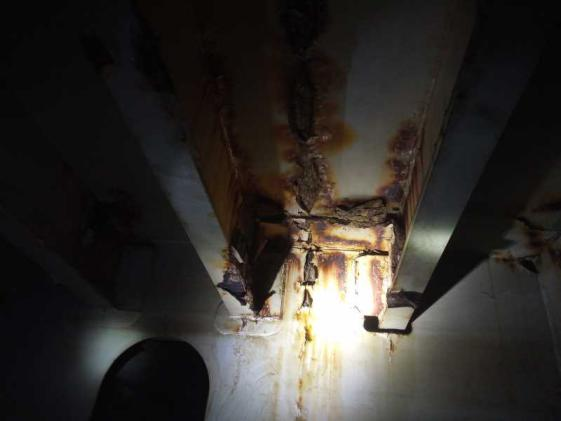corrosion: (238, 13, 366, 141), (295, 321, 344, 418), (272, 154, 345, 216), (378, 113, 420, 202), (209, 240, 257, 305), (288, 251, 323, 321), (364, 246, 391, 332), (327, 244, 352, 294)
